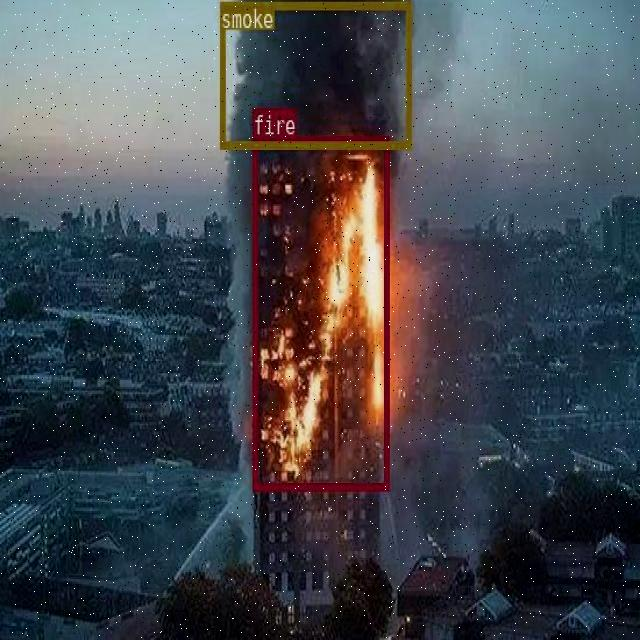fire: (252, 135, 388, 489)
smoke: (219, 2, 410, 148)
